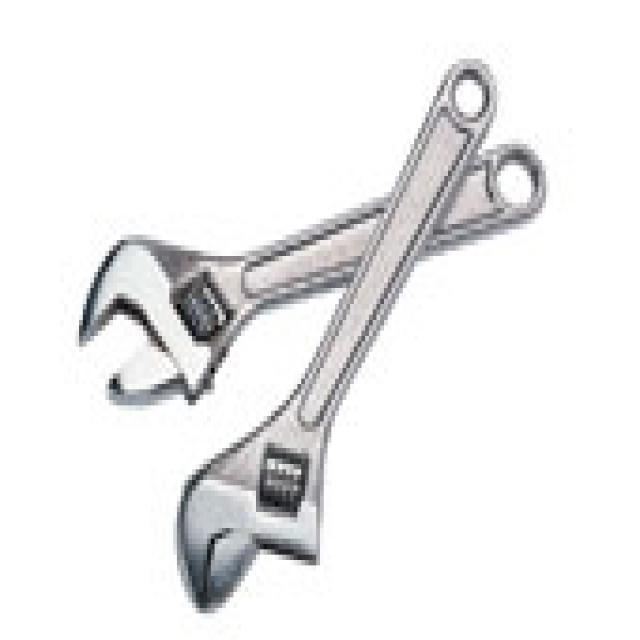wrench: (164, 54, 497, 608), (72, 143, 559, 410)
